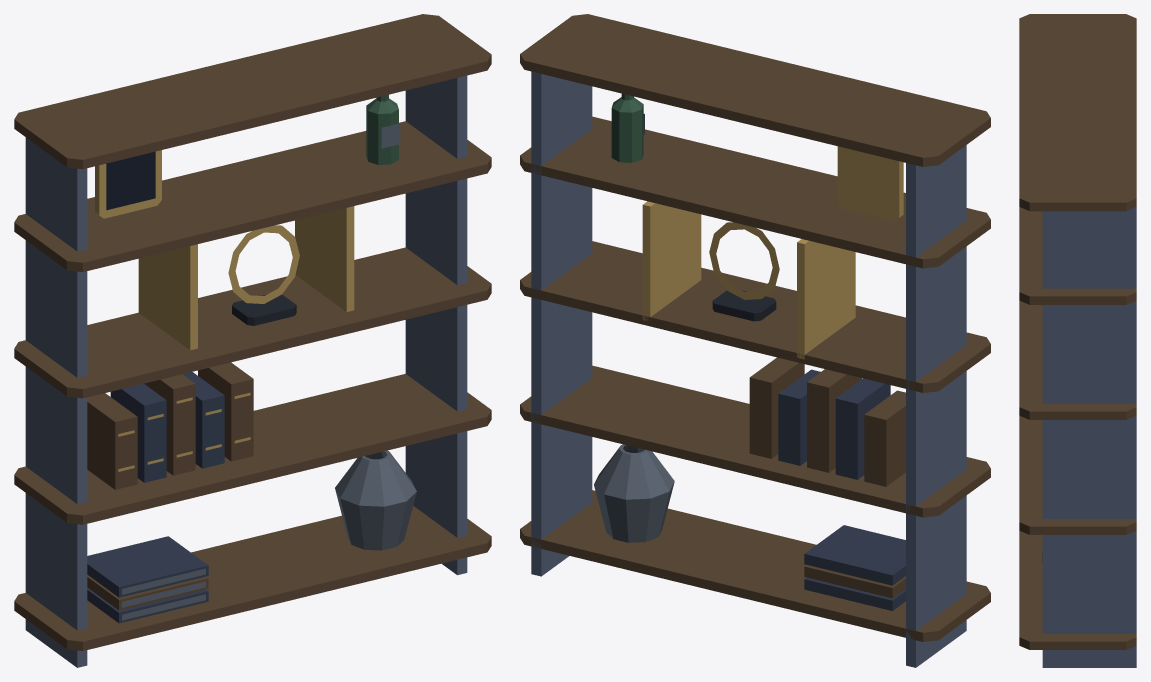
Rendered from res_decor_shelf.glb.
The picture shows the model from 3 angles, left to right: view 1: azimuth 30°, elevation 25°; view 2: azimuth 150°, elevation 25°; view 3: azimuth 270°, elevation 25°; orthographic projection. The views are drawn at different scales.
Visible parts, largest first — view 1: book_binding, open_shelf_upright, asymmetric_divider, book_binding.001, bottle_label, photo_silhouette, bottle, objet_base; view 2: book_binding, open_shelf_upright, asymmetric_divider, book_binding.001, bottle_label, bottle, objet_base; view 3: book_binding, open_shelf_upright.
Part boxes in pixels (box(x1,y1,x2,y2)): book_binding: box(14, 14, 491, 650); open_shelf_upright: box(25, 75, 467, 667); asymmetric_divider: box(95, 150, 354, 471); book_binding.001: box(87, 372, 224, 623); bottle_label: box(122, 123, 416, 620); photo_silhouette: box(106, 151, 155, 210); bottle: box(366, 94, 398, 164); objet_base: box(232, 294, 296, 325); book_binding: box(520, 14, 990, 641); open_shelf_upright: box(531, 71, 966, 667); asymmetric_divider: box(642, 146, 903, 359); book_binding.001: box(778, 369, 905, 610); bottle_label: box(594, 114, 674, 542); bottle: box(611, 93, 643, 162); objet_base: box(712, 290, 776, 321); book_binding: box(1019, 14, 1136, 649); open_shelf_upright: box(1042, 207, 1136, 667).
Bounding box in the file's own units: 1.9 × 2.22 × 0.5.
